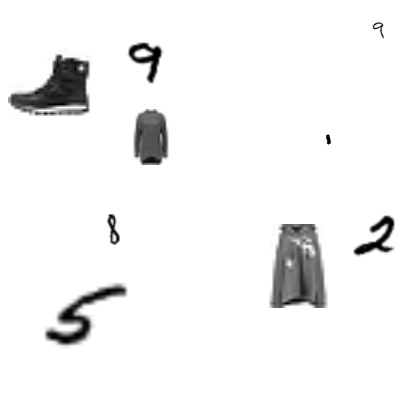1: (321, 132, 335, 146)
2: (350, 208, 406, 264)
5: (22, 260, 134, 372)
8: (91, 207, 133, 249), (78, 301, 92, 315)
9: (119, 29, 175, 85), (368, 17, 390, 39)
Ankle_boot: (8, 40, 92, 124)
Pullover: (255, 224, 339, 308), (122, 109, 178, 165)
